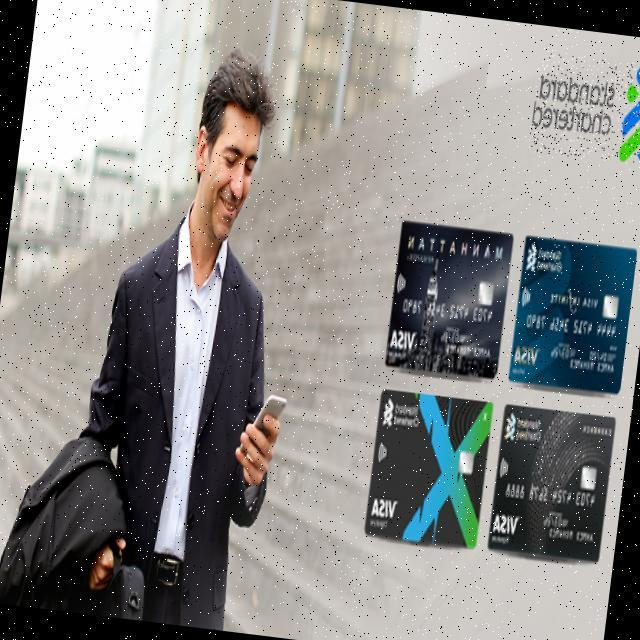Standard Chartered: (527, 51, 640, 166), (503, 410, 543, 446), (381, 397, 421, 432), (525, 242, 565, 276)
